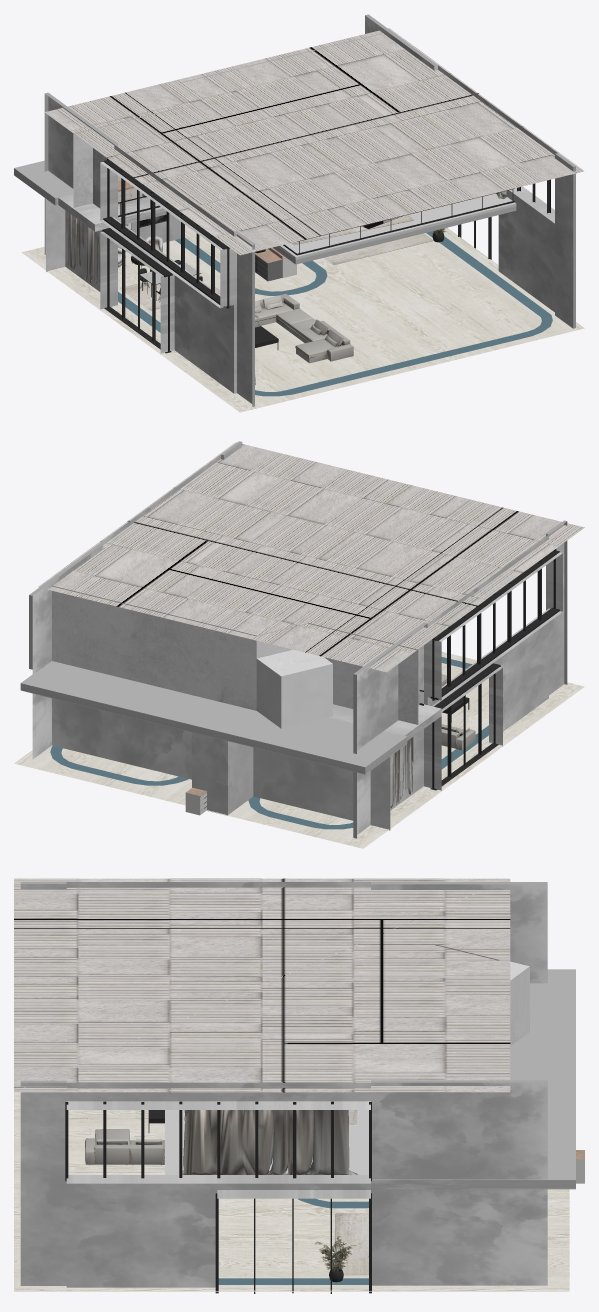
The model's file is house.glb.
The picture shows the model from 3 angles, top to bottom: view 1: azimuth 30°, elevation 25°; view 2: azimuth 150°, elevation 25°; view 3: azimuth 270°, elevation 25°; orthographic projection. The views are drawn at different scales.
Parts seen in each view (by area): view 1: House, Road1; view 2: House, Road1; view 3: House, Road1.
Part boxes in pixels (<box>): House: <box>14,14,584,412</box>; Road1: <box>118,231,552,396</box>; House: <box>14,441,584,848</box>; Road1: <box>50,657,488,829</box>; House: <box>14,878,584,1293</box>; Road1: <box>218,1198,368,1284</box>.
Size of the model in its own units: 11.54 by 5.05 by 12.58.
Materials: 22 (20 with a texture image).
